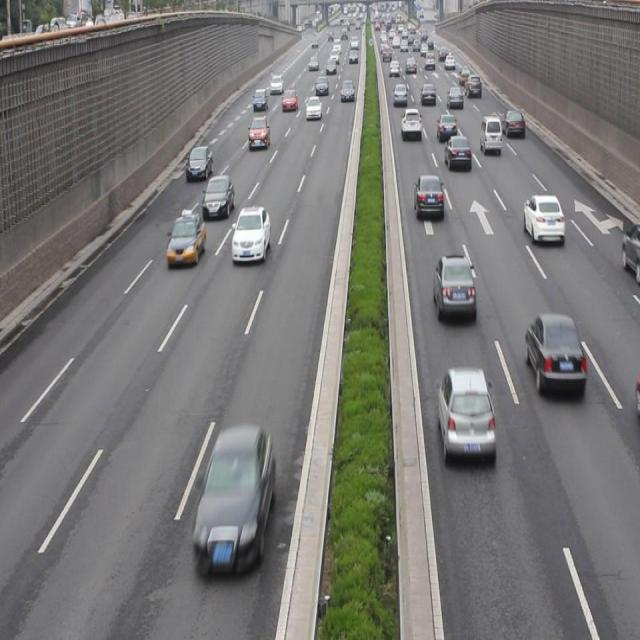car: (193, 421, 275, 577), (436, 365, 495, 463), (524, 310, 585, 394), (432, 253, 476, 322), (230, 205, 271, 262), (166, 211, 206, 268), (522, 192, 564, 244), (201, 173, 235, 219), (413, 172, 444, 221), (620, 221, 640, 278), (186, 143, 213, 181), (444, 134, 470, 172), (248, 117, 271, 151), (399, 108, 422, 140), (436, 112, 458, 144), (503, 108, 525, 140)
truck: (479, 115, 502, 154)
